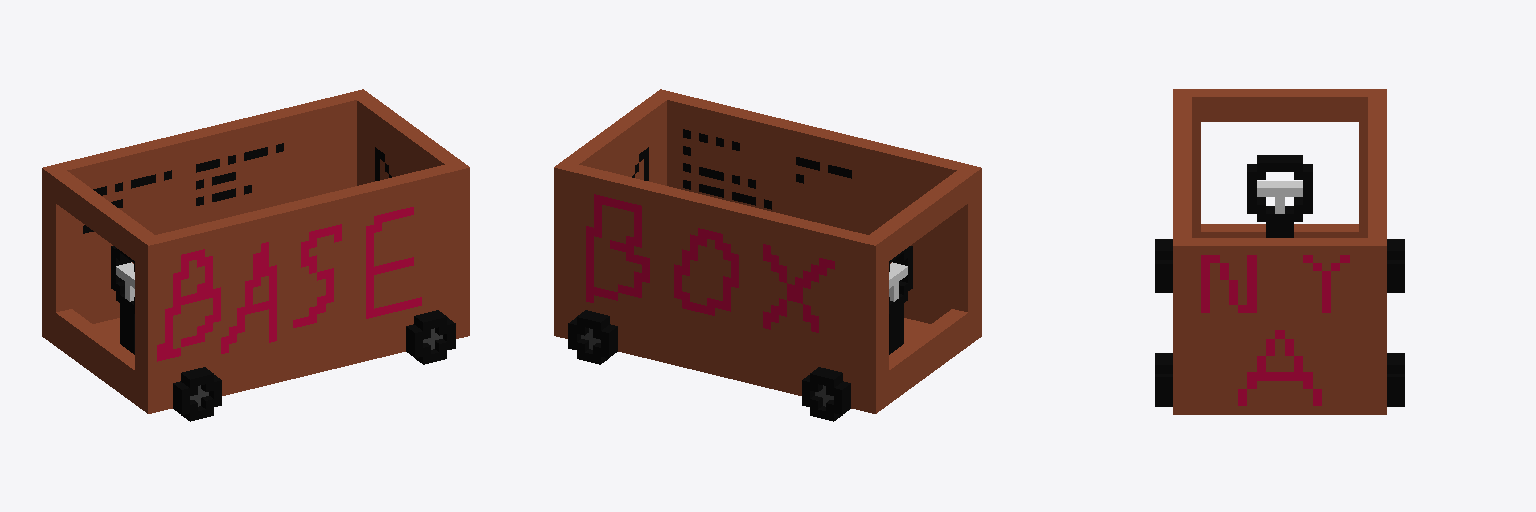
3 views of the same model, side by side, from view 1: azimuth 30°, elevation 25°; view 2: azimuth 150°, elevation 25°; view 3: azimuth 270°, elevation 25° (orthographic).
Visible parts, largest first — view 1: object 1; view 2: object 1; view 3: object 1.
Part boxes in pixels (x1,y1,x2,y2): object 1: (42,89,469,421); object 1: (554,89,981,421); object 1: (1155,89,1404,414).
Bounding box in the file's own units: 4 × 2.1 × 2.7.
1 materials, 1 textured.